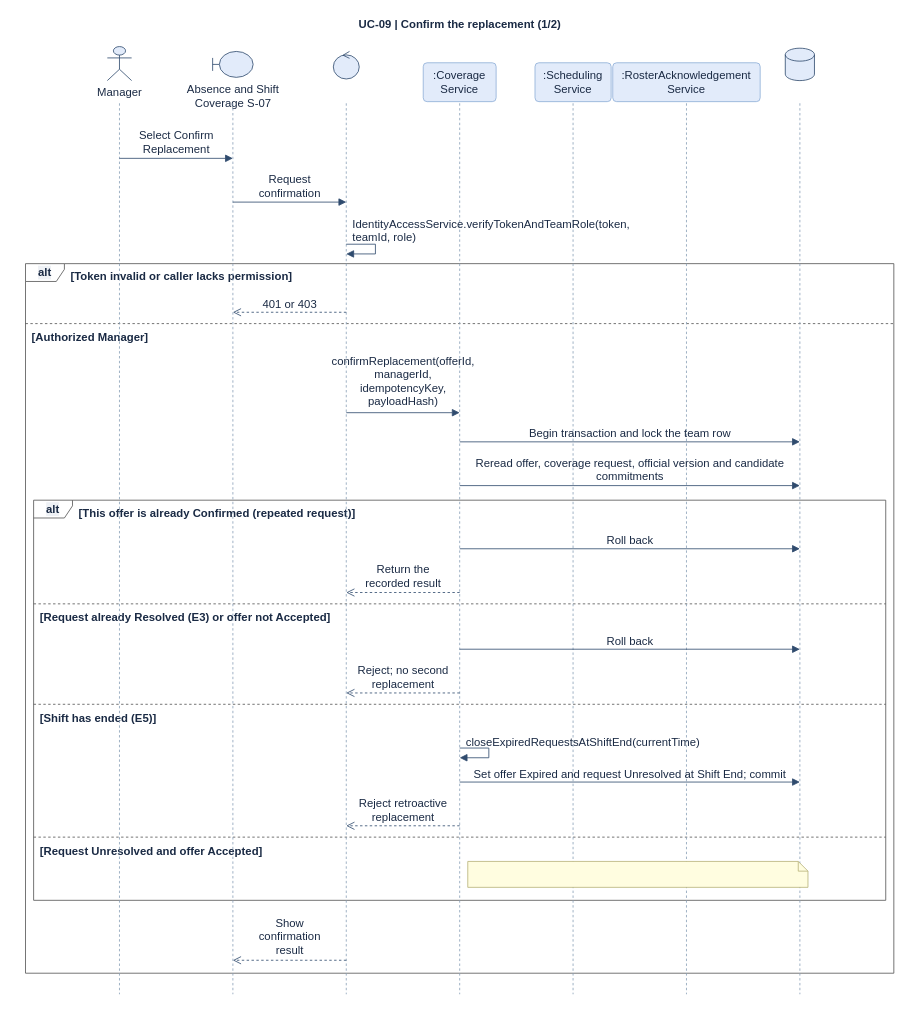
Image size: 919x1009. Some labels were removed from this diagram. The centre of each missing label's shape, as x and y in pixels:
Continues in part 2/2.: the point at 637,874
Express API: the point at 346,65
PostgreSQL: the point at 799,64
